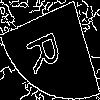R: (24, 24, 70, 77)
